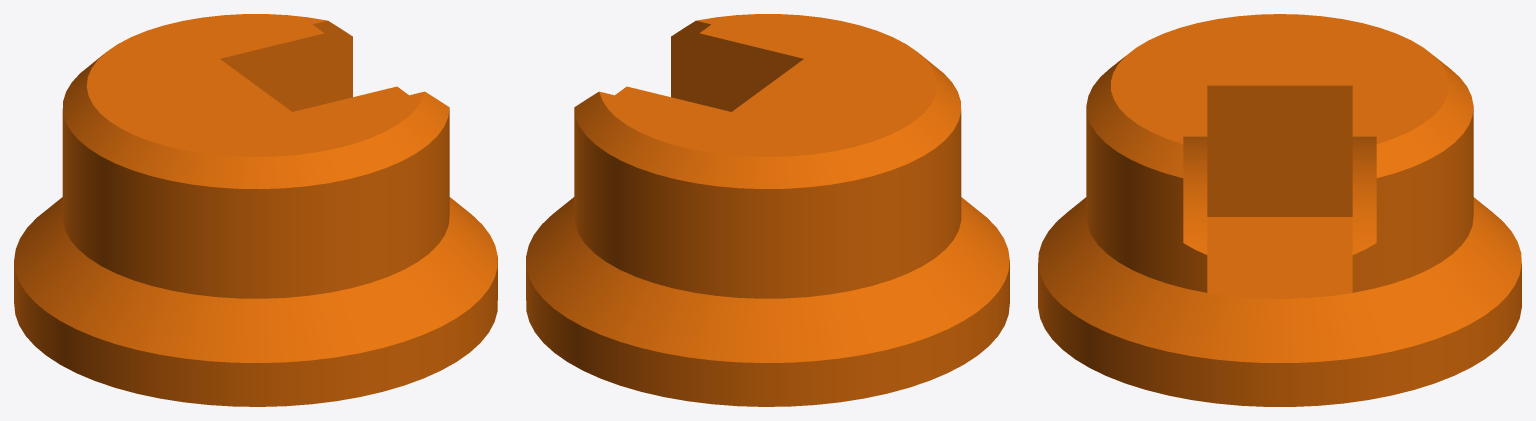
The picture shows the model from 3 angles, left to right: view 1: azimuth 30°, elevation 25°; view 2: azimuth 150°, elevation 25°; view 3: azimuth 270°, elevation 25°; orthographic projection.
Parts seen in each view (by area): view 1: Body1; view 2: Body1; view 3: Body1.
Part boxes in pixels (bbox=[...]): Body1: bbox=[14, 14, 497, 406]; Body1: bbox=[526, 14, 1009, 406]; Body1: bbox=[1038, 14, 1521, 406].
Size of the model in its own units: 0.9993 by 0.9996 by 0.5.
